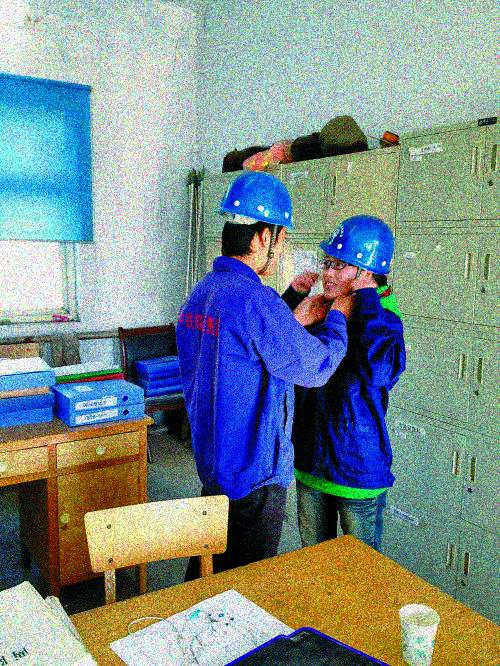helmet: (218, 168, 294, 277), (316, 211, 397, 301)
